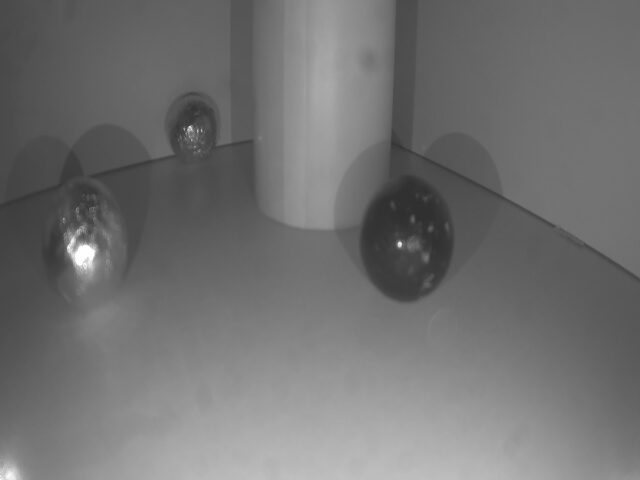Dead: (361, 173, 451, 304)
Live: (39, 178, 133, 311), (165, 89, 220, 165)
